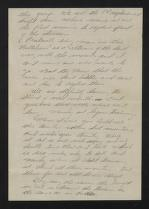page: (9, 8, 141, 200)
